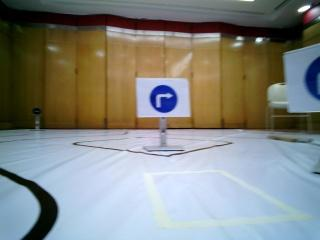right: (291, 44, 320, 115), (137, 79, 192, 116)
